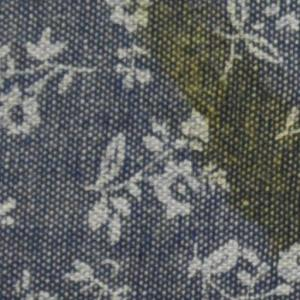Stain: (130, 1, 300, 260)
